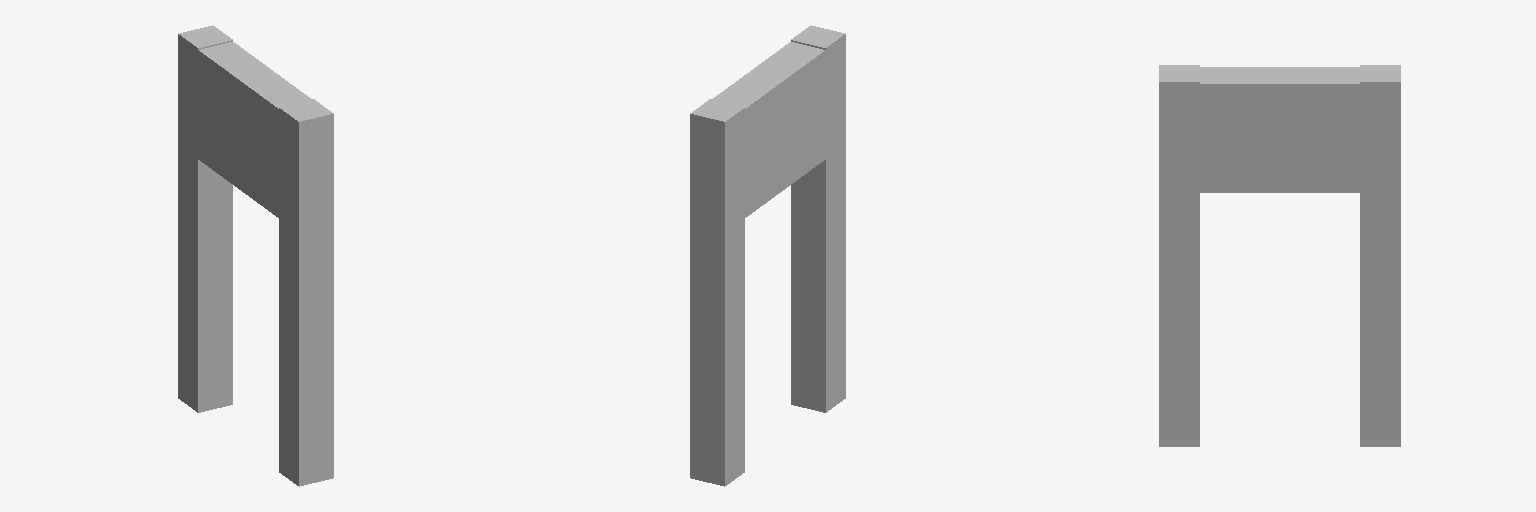
File: destino.obj
The picture shows the model from 3 angles: view 1: azimuth 30°, elevation 25°; view 2: azimuth 150°, elevation 25°; view 3: azimuth 270°, elevation 25°; orthographic projection.
Visible parts, largest first — view 1: Cube3; view 2: Cube3; view 3: Cube3.
Boxes of the visible parts, x1,y1,x2,y2 form: Cube3: [178, 25, 333, 486]; Cube3: [690, 25, 845, 486]; Cube3: [1159, 65, 1400, 446].
Bounding box in the file's own units: 0.2 × 2 × 1.2.